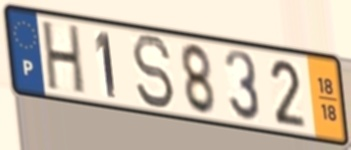1: (94, 30, 118, 100)
2: (268, 57, 309, 129)
3: (223, 48, 263, 125)
8: (179, 41, 217, 117)
H: (41, 20, 87, 98)
S: (129, 32, 177, 112)
